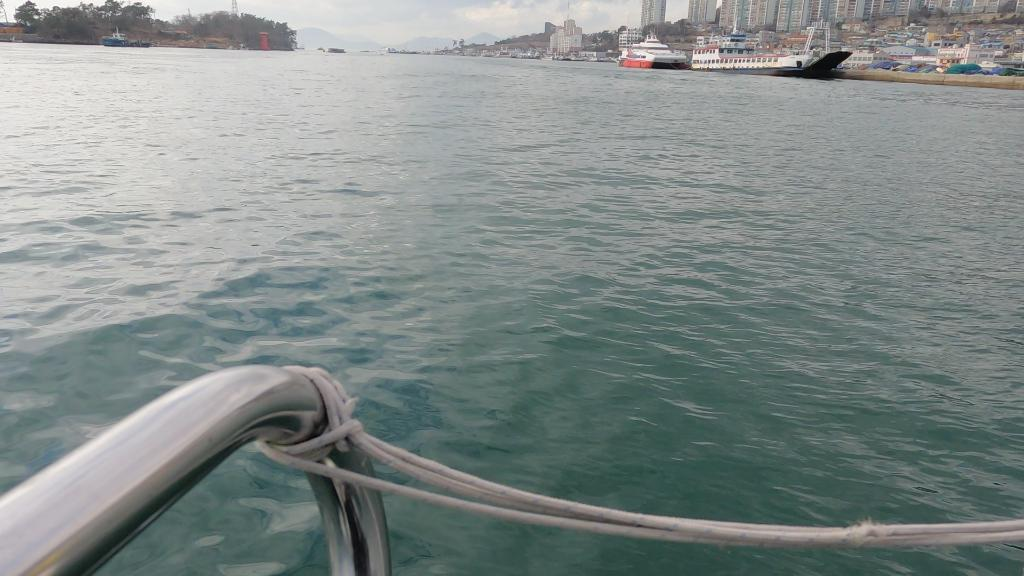PassengerShip: (687, 21, 851, 79), (615, 30, 689, 70)
